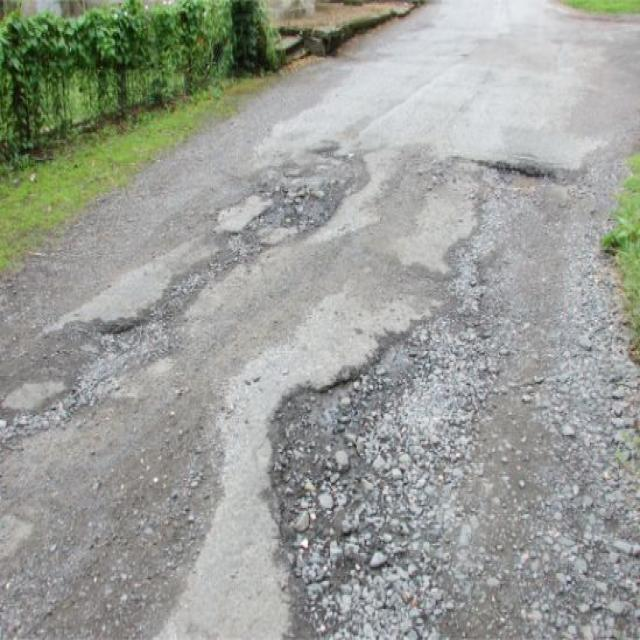pothole: (256, 312, 502, 638), (434, 143, 556, 194)
